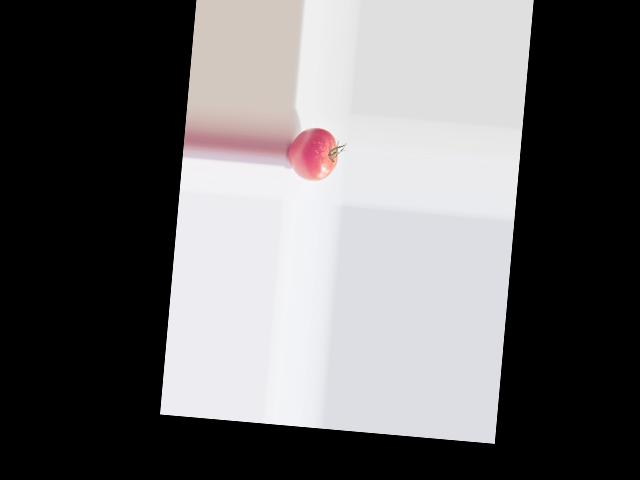tomato: (285, 126, 339, 183)
